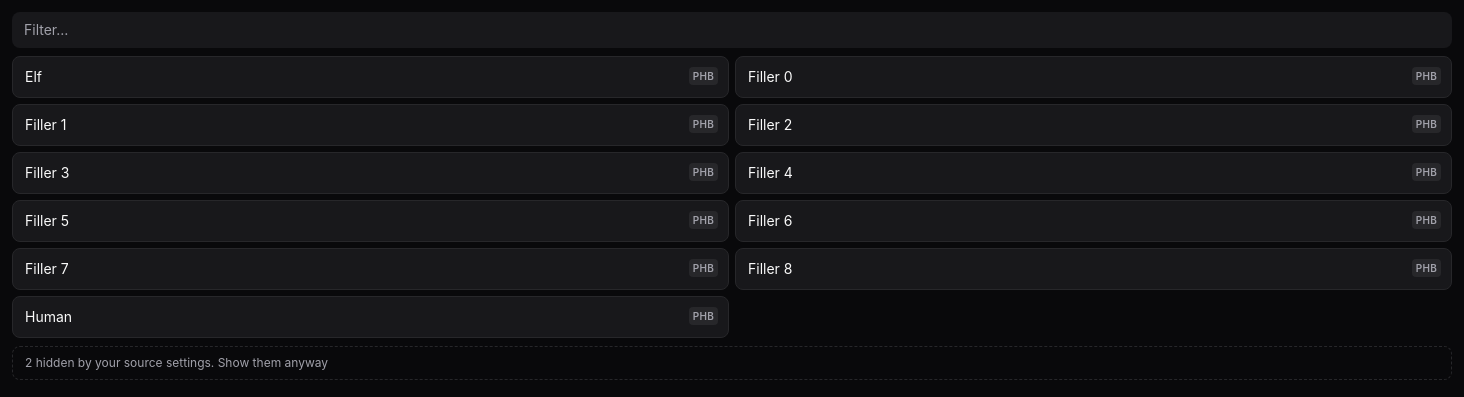
EntityCardList source filtering › says nothing about hidden sources when the filter matches only visible entries
The width and height of the screenshot is (1464, 397).
Type "human" into the field with placeholder "Filter…" at (732, 30), box [12,12,1452,48]
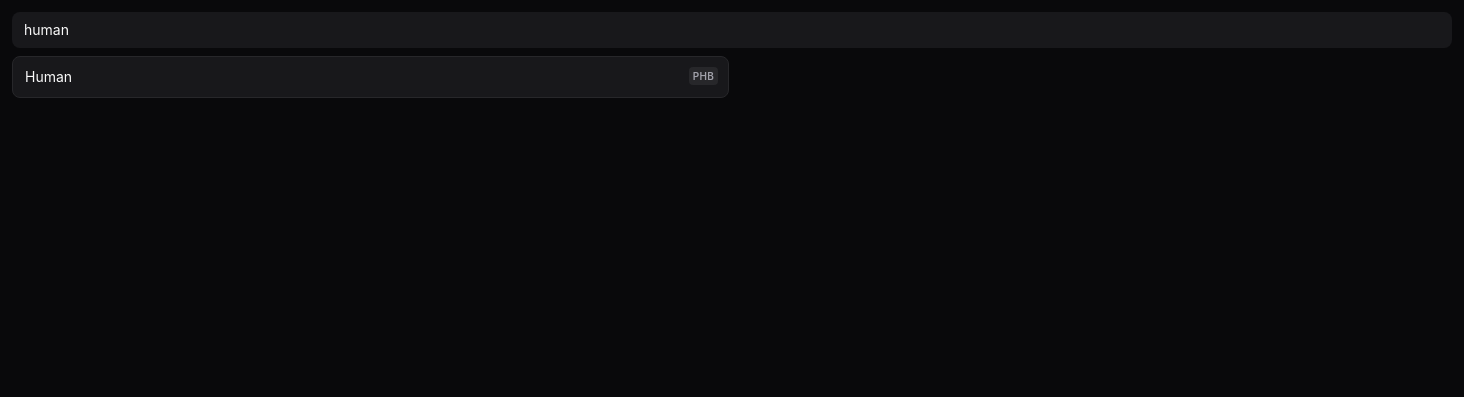
Result: the button "hidden by your source settings" is gone
